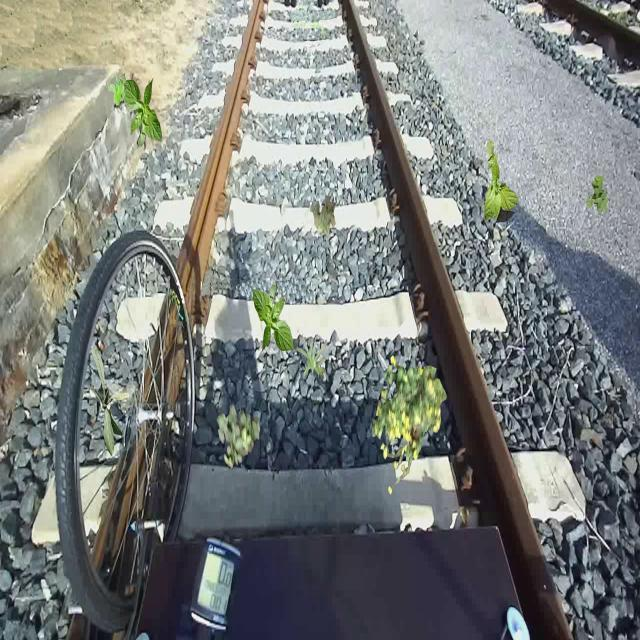Plant: (372, 355, 447, 495), (90, 346, 130, 456), (484, 139, 520, 222), (121, 77, 162, 148), (253, 283, 294, 354), (217, 403, 260, 470), (295, 334, 328, 380), (310, 195, 336, 238), (586, 174, 610, 215), (106, 73, 126, 106)
